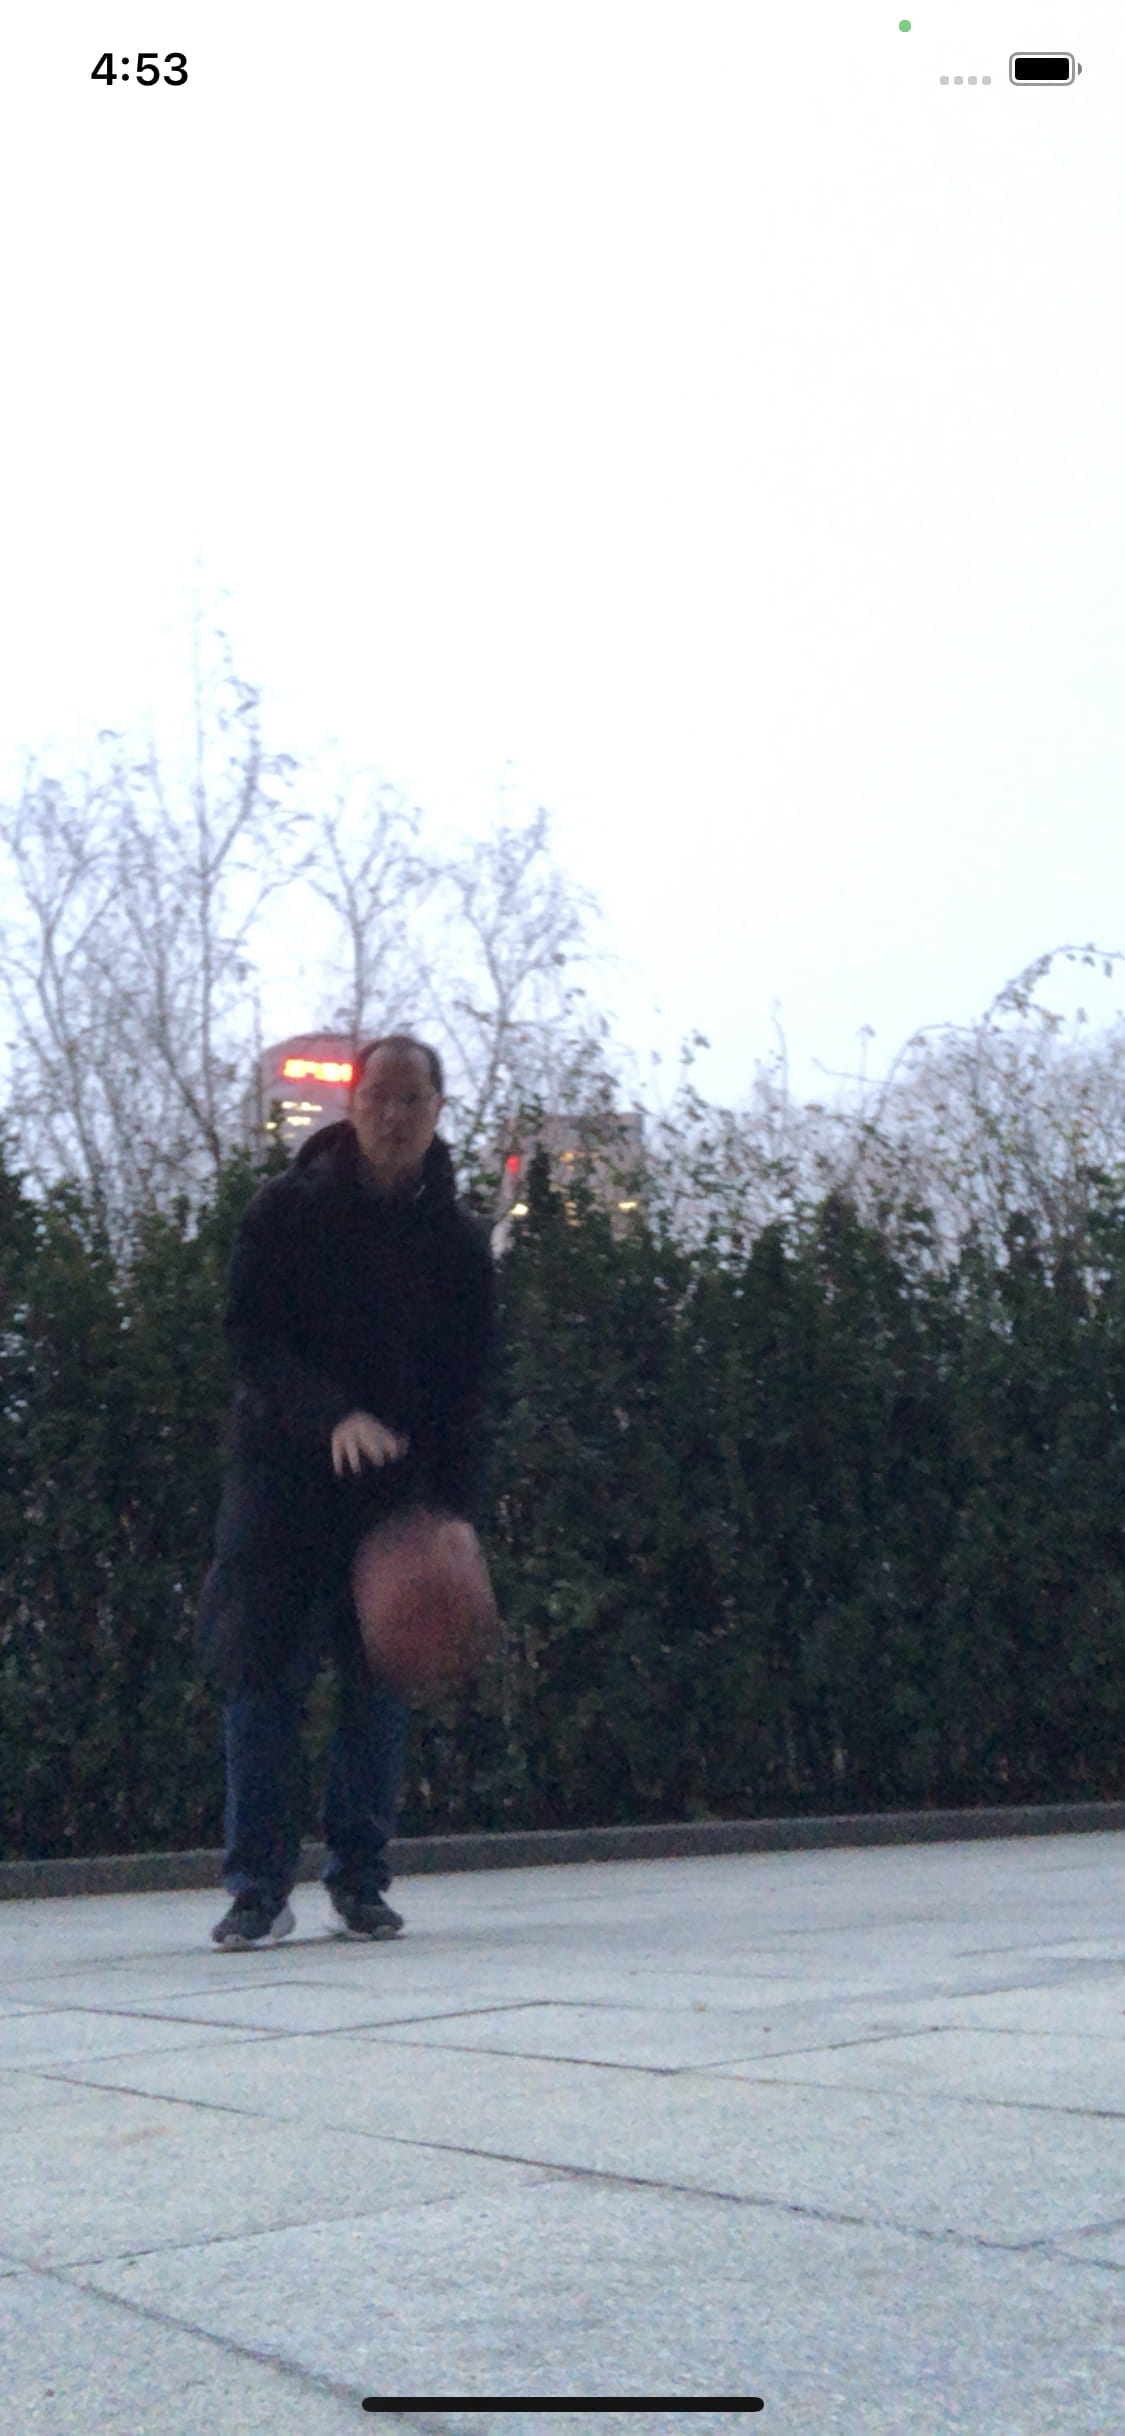ball: (354, 1526, 503, 1693)
